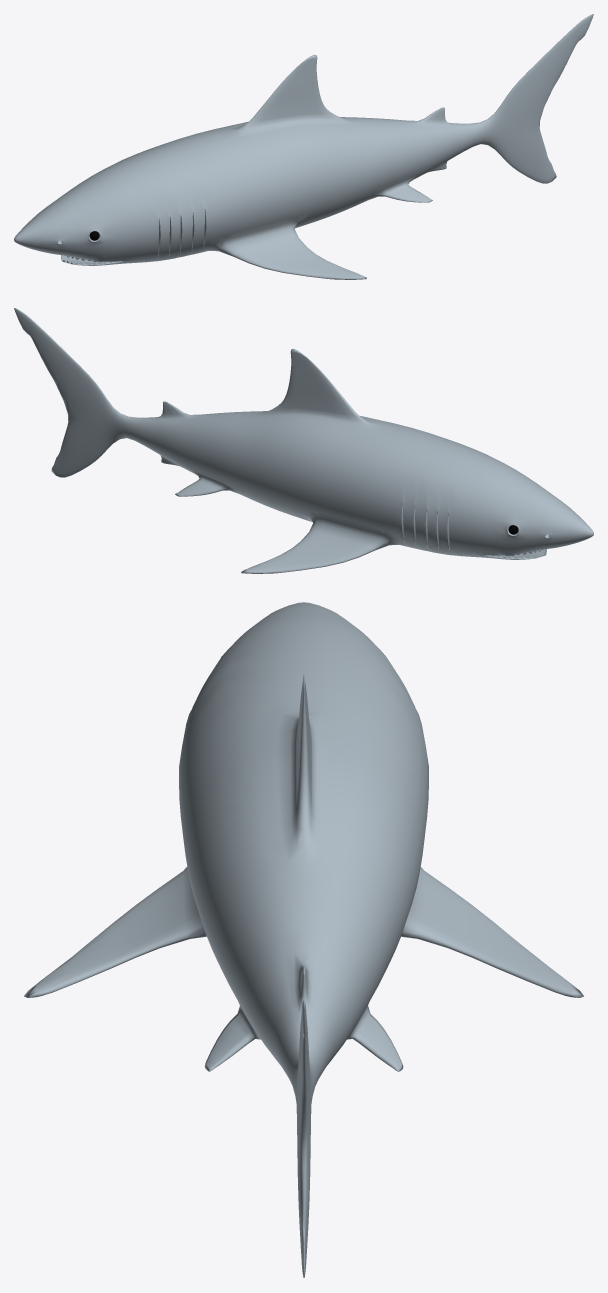
File: SHARK.obj
3 renders of one model, top to bottom at view 1: azimuth 30°, elevation 25°; view 2: azimuth 150°, elevation 25°; view 3: azimuth 270°, elevation 25°, orthographic. The views are drawn at different scales.
Visible parts, largest first — view 1: Cylinder2_cut5; view 2: Cylinder2_cut5; view 3: Cylinder2_cut5.
Part boxes in pixels (x1,y1,x2,y2): Cylinder2_cut5: (14,14,593,279); Cylinder2_cut5: (14,308,593,573); Cylinder2_cut5: (24,602,583,1277).
Bounding box in the file's own units: 4.17 × 1.28 × 1.75.
